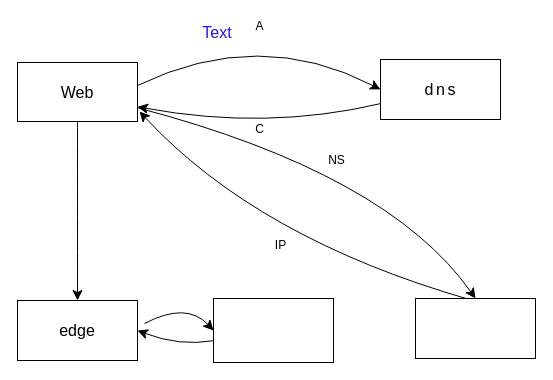
This 553x380 diagram has some shape labels left out. Here are the shapes that lost their labels. From the top down, the box of each, then its label:
(212, 298, 334, 362): origin
(414, 298, 536, 358): cdns
